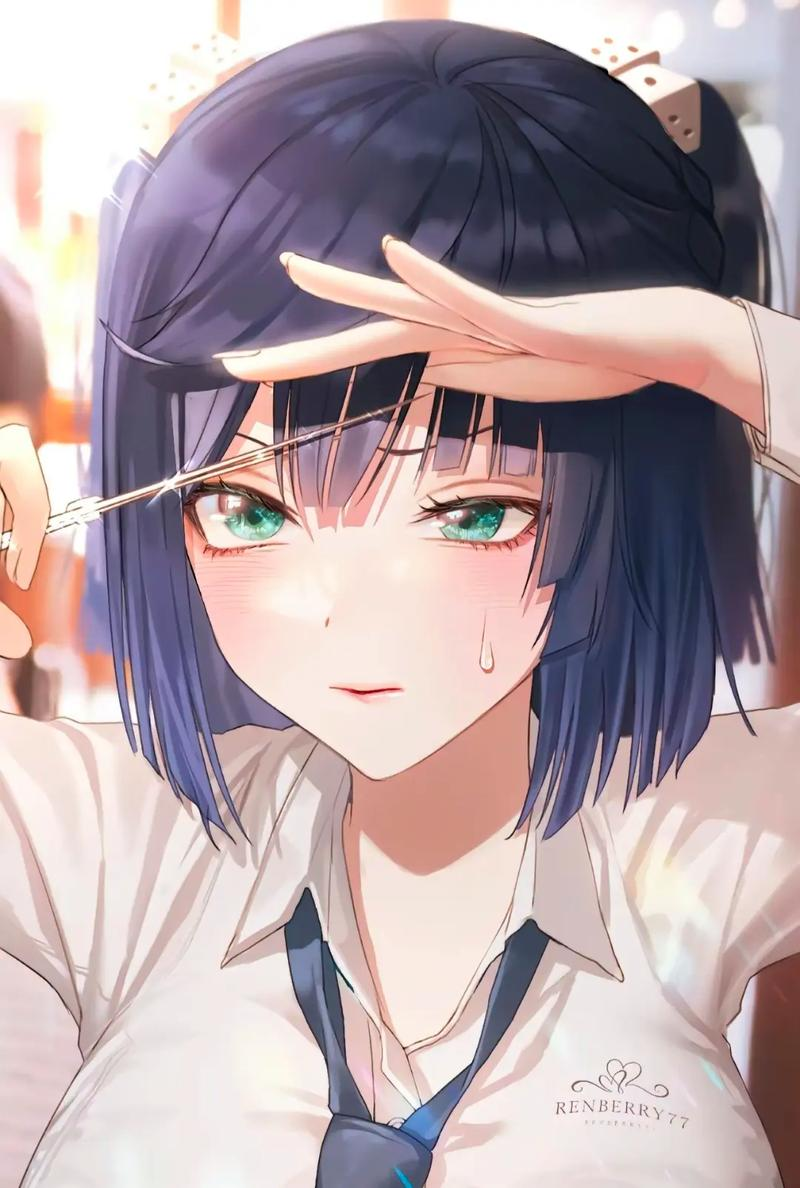夜兰: (13, 25, 798, 1188)
